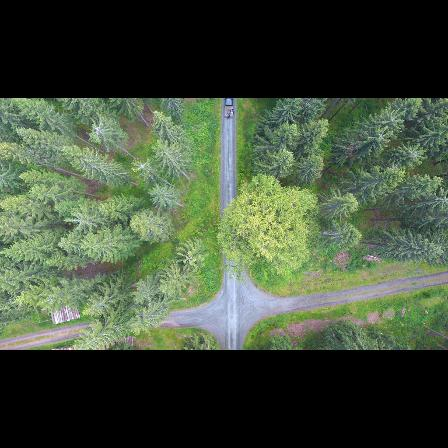Sick: (399, 139, 429, 162), (67, 206, 92, 232), (376, 110, 409, 129), (129, 154, 154, 178)
